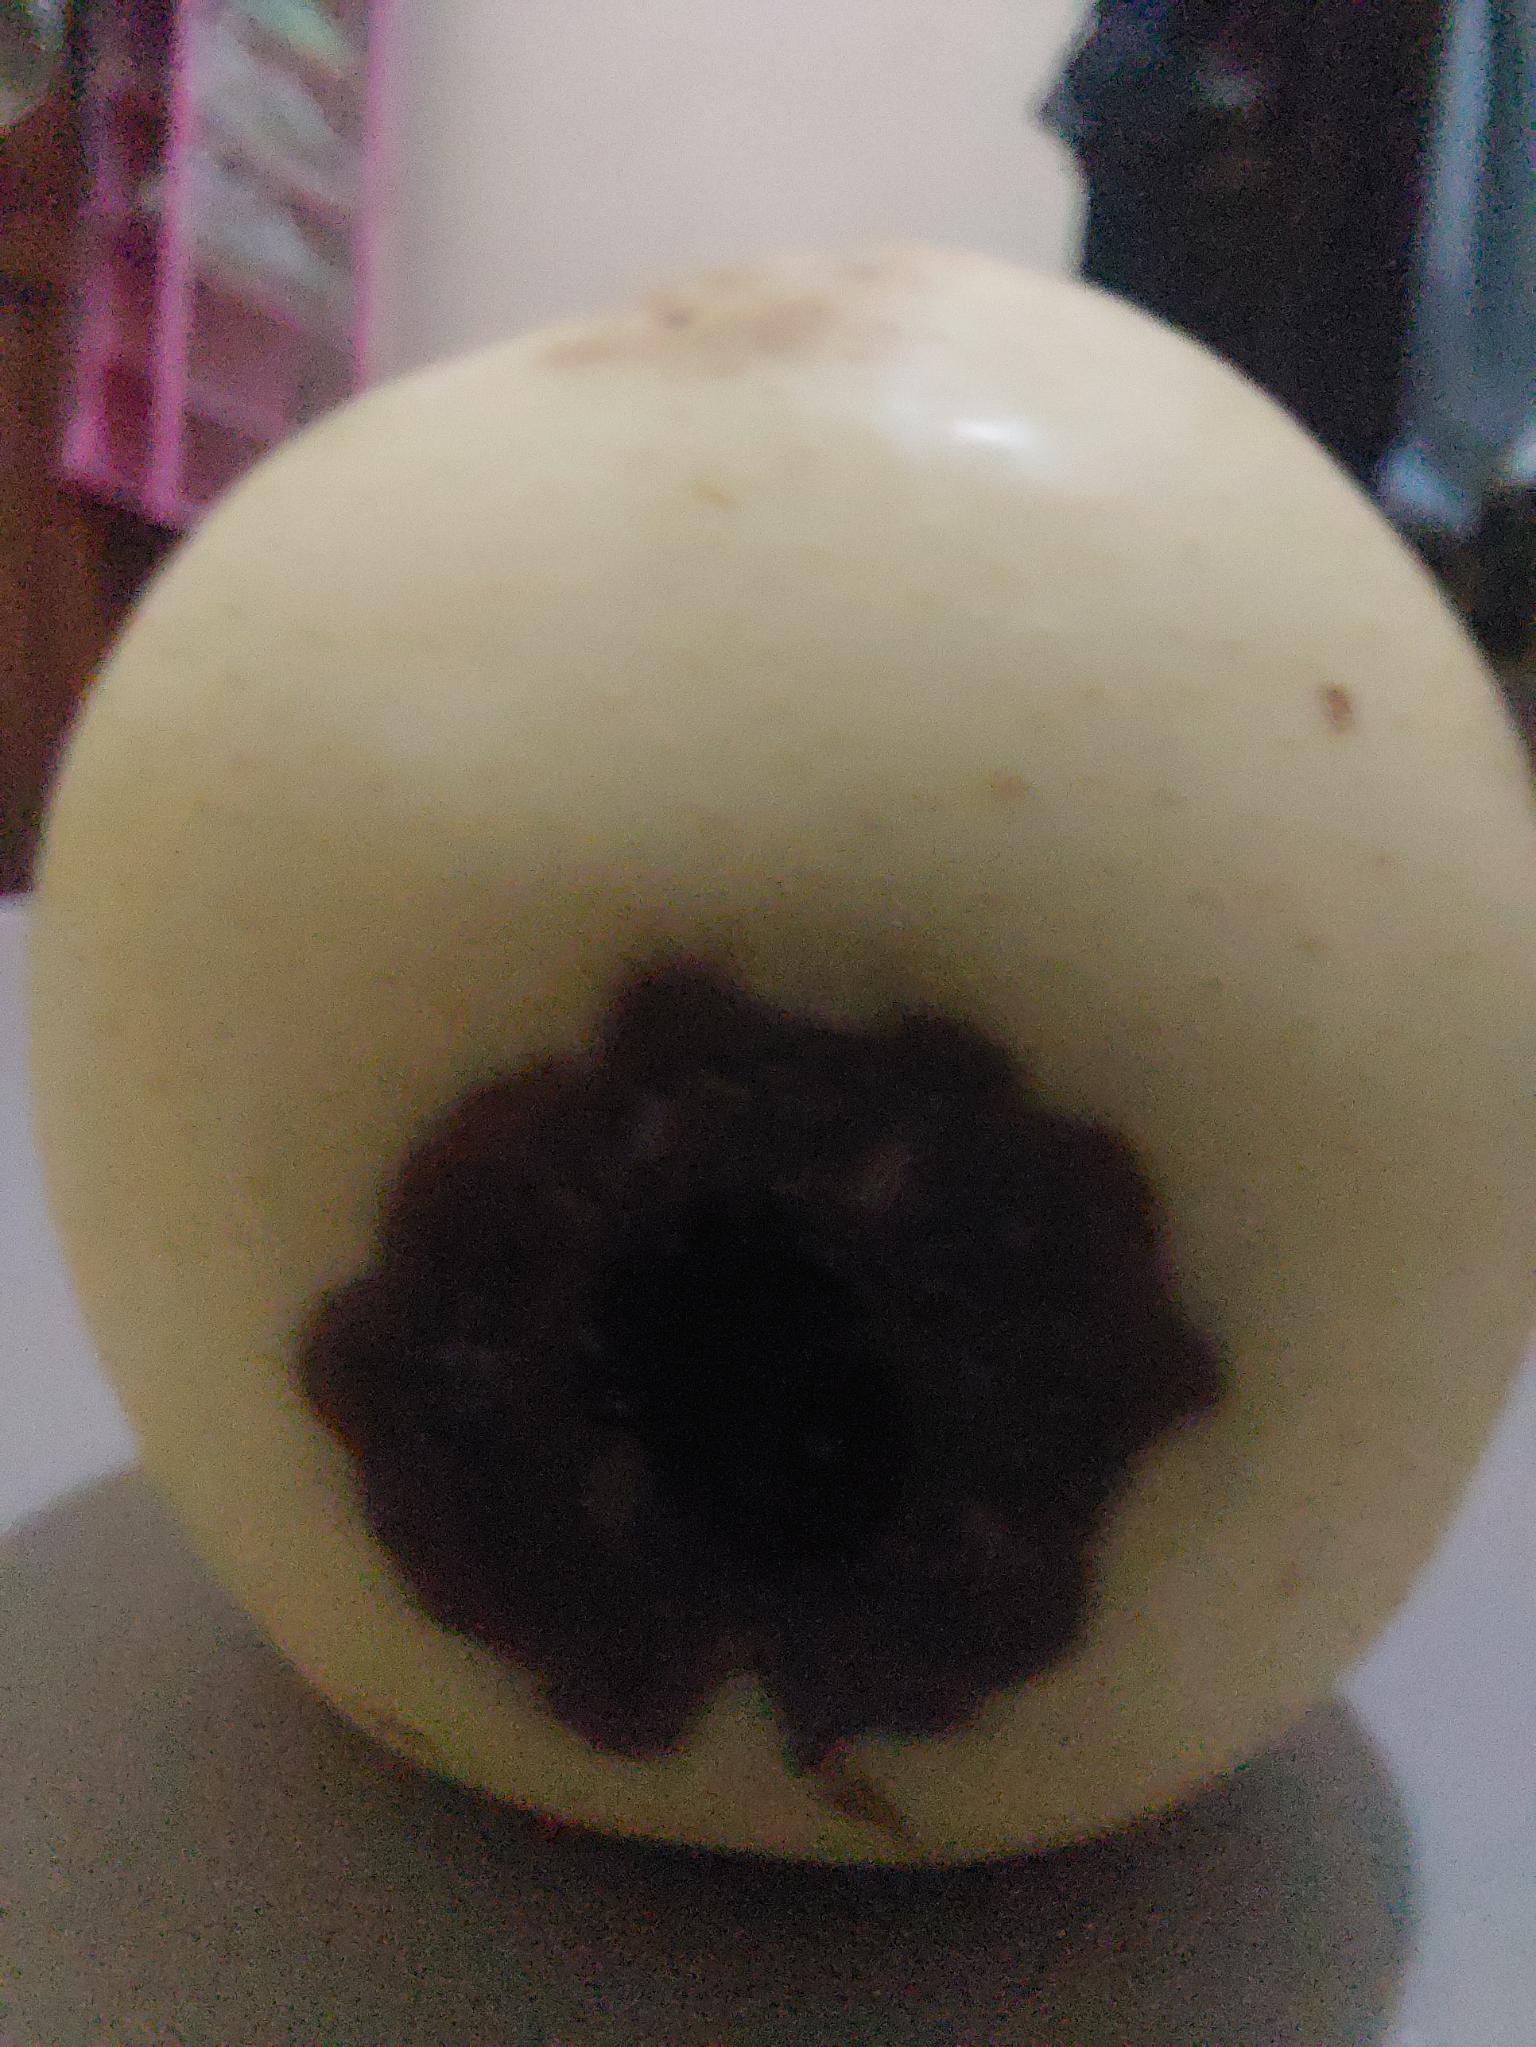Bad Pear: (0, 224, 1536, 1920)
